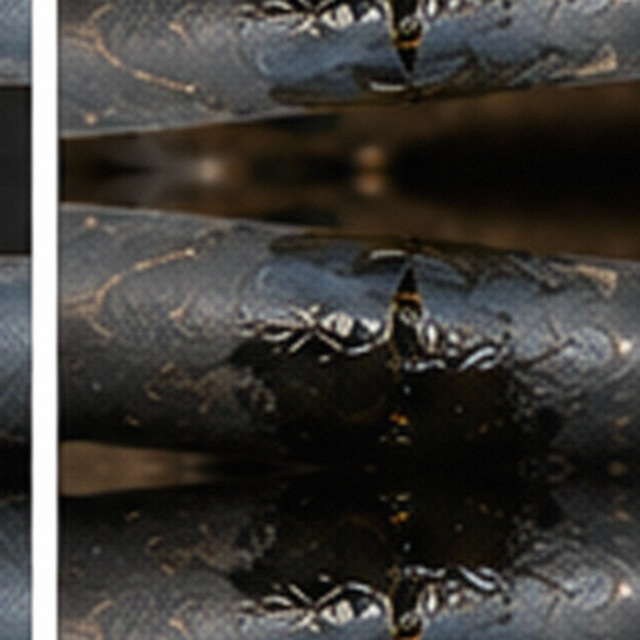hydraulic_oil_leak: (196, 186, 460, 443)
